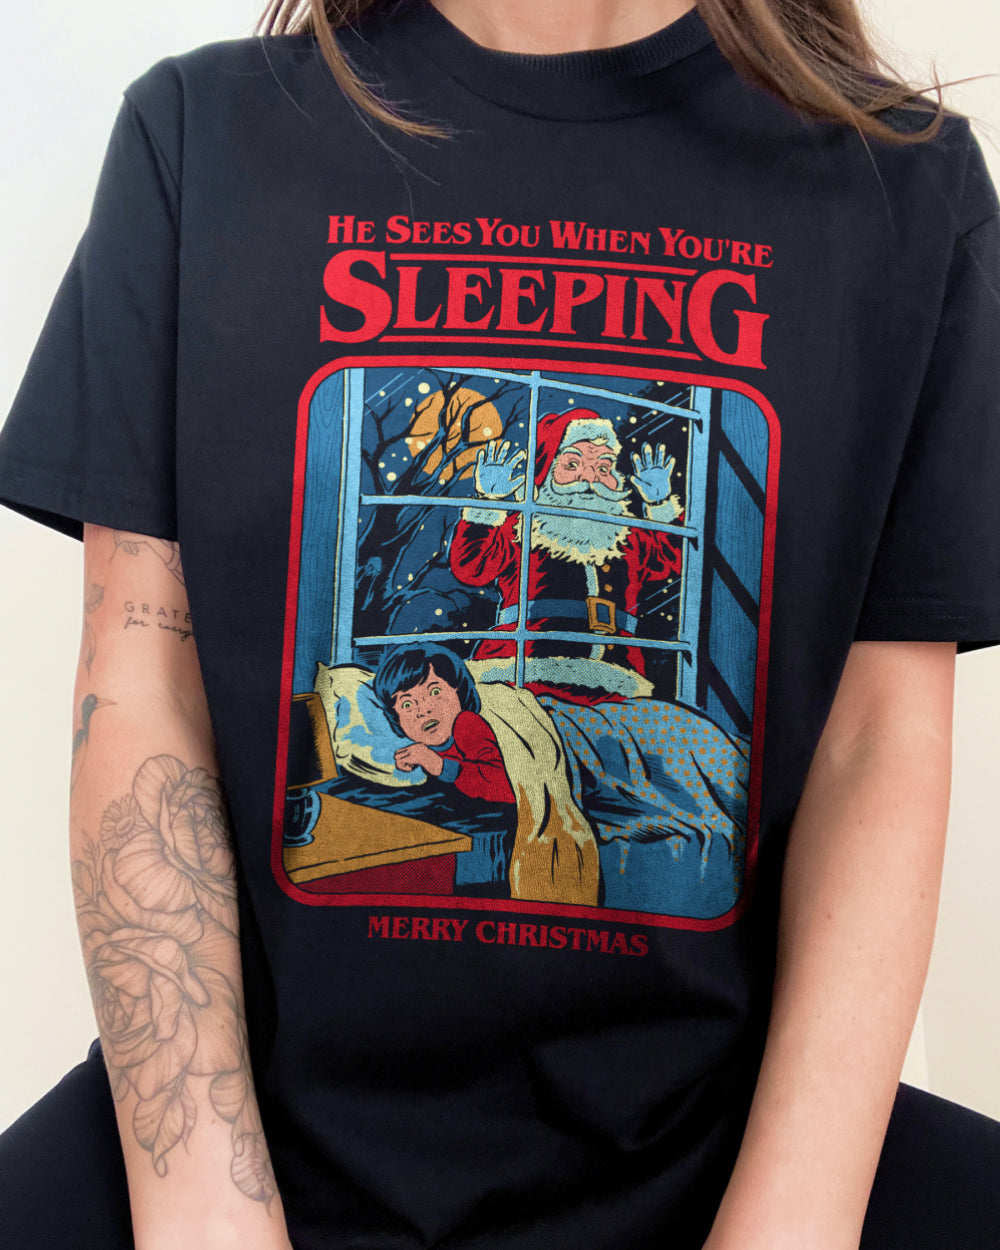design: (252, 202, 791, 973)
